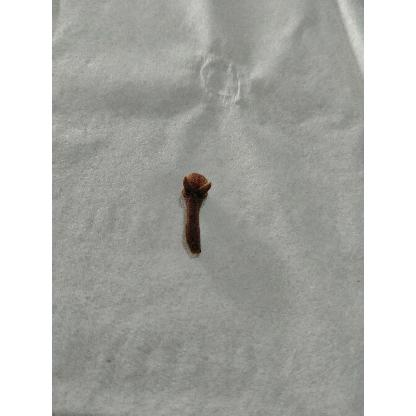baik: (182, 173, 211, 257)
